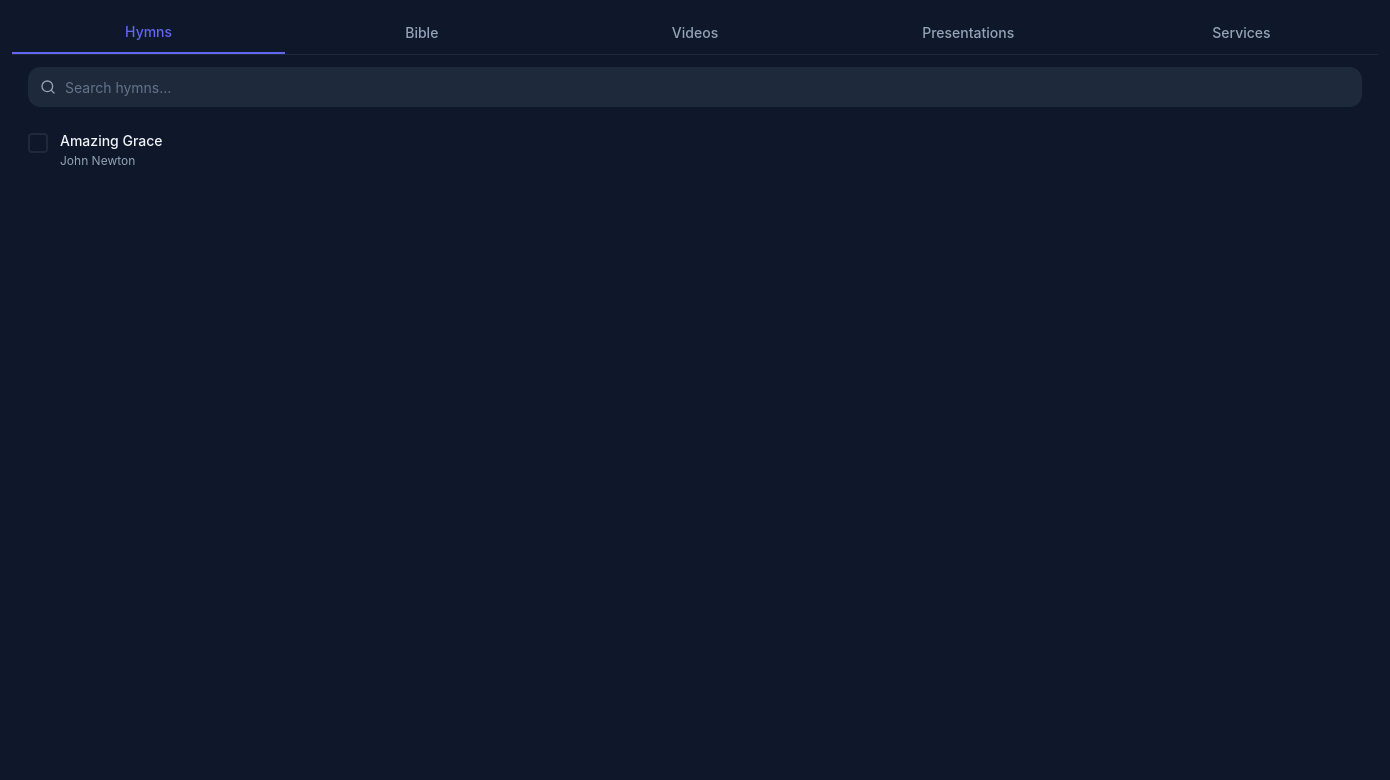
SearchRoute — G3 (debounce 120 ms) › tapping a hymn result toggles its checkbox (multi-select)
Click the checkbox at (111, 140), box [12,119,1378,181]
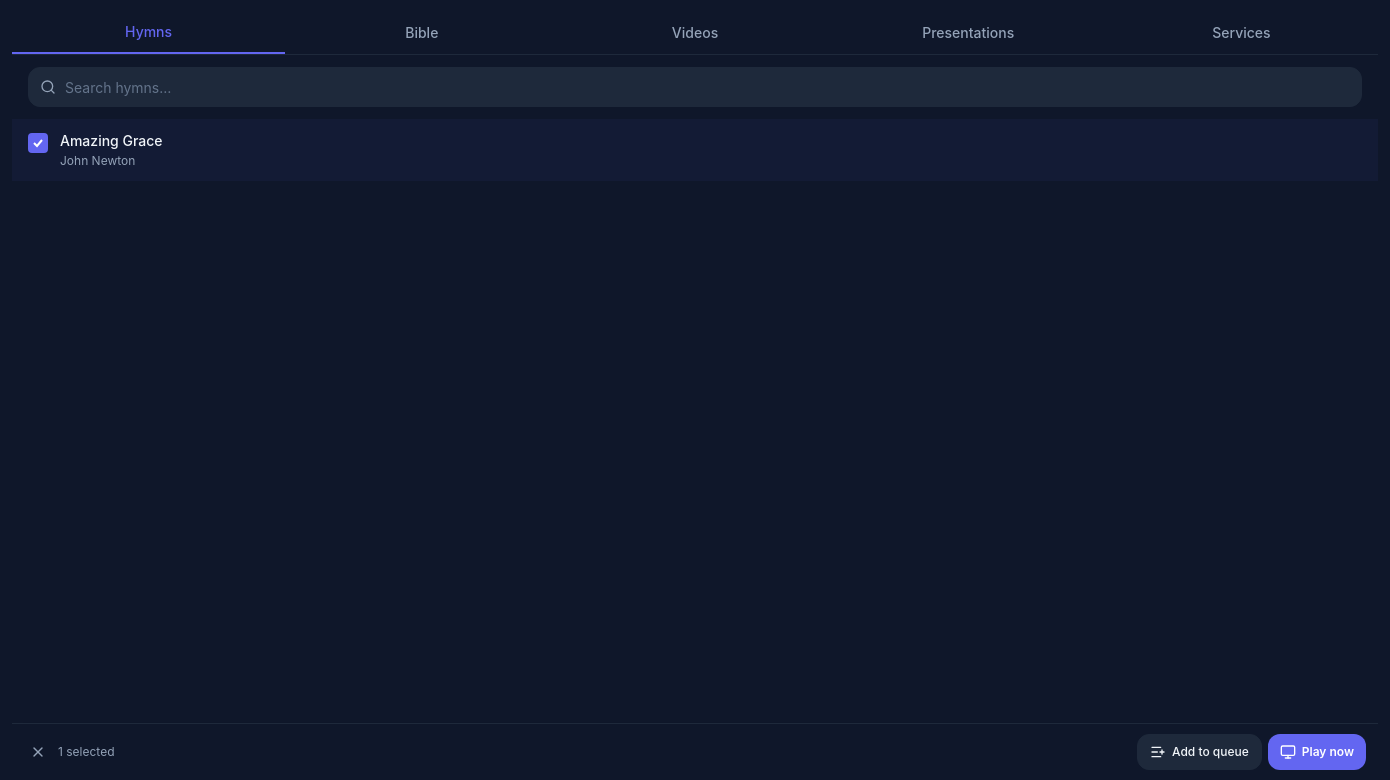
Check: the element showing "1 selected Add to queue Play now" is shown, box [12,723,1378,779]
